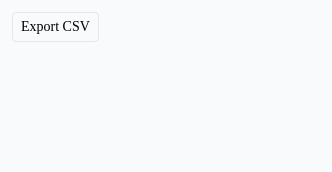
Test: ExportButton › shows an error message when the export fails
Click the button "Export CSV" at (55, 27), box [12, 12, 99, 42]
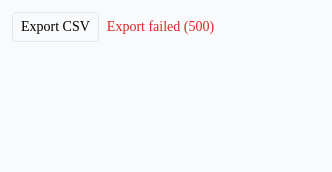
Expected: the message "Export failed (500)" is shown, [107, 19, 214, 34]
